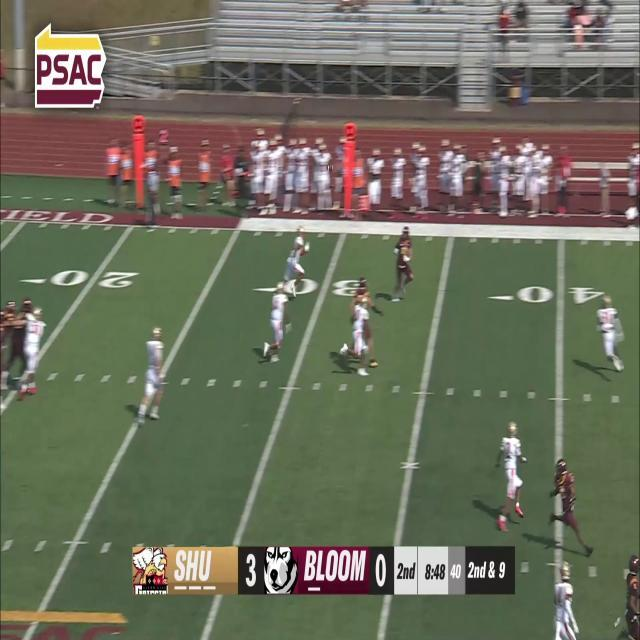football: (326, 162, 334, 172)
